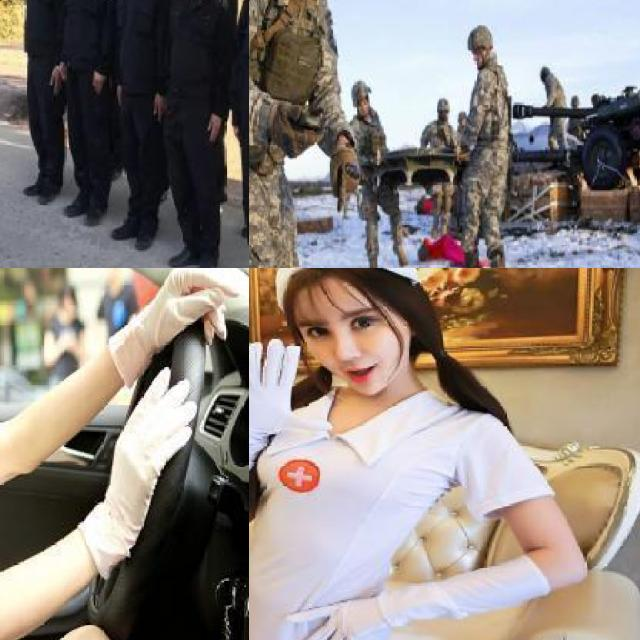face_nomask: (298, 285, 418, 405)
hand_glove: (110, 364, 198, 541), (129, 268, 243, 354), (249, 338, 330, 437), (287, 599, 389, 640), (273, 101, 325, 161), (330, 152, 359, 218)
hand_noglove: (204, 113, 222, 141), (152, 95, 166, 121), (90, 70, 104, 95), (49, 64, 61, 93), (114, 82, 125, 104), (372, 150, 382, 166), (232, 122, 240, 140), (58, 62, 66, 78), (455, 144, 462, 162)
head_helmet: (468, 22, 498, 54), (350, 78, 373, 105), (433, 101, 450, 119)
head_nohelmet: (256, 268, 430, 297)
person: (249, 268, 498, 640), (0, 268, 224, 640), (249, 0, 380, 268), (427, 19, 536, 268), (170, 0, 232, 268), (339, 73, 422, 268), (118, 0, 173, 253), (9, 0, 70, 200), (70, 0, 113, 230), (532, 56, 580, 154)
shoes: (34, 169, 68, 205), (60, 188, 98, 218), (82, 194, 113, 229), (133, 223, 161, 256), (165, 246, 204, 268), (194, 245, 220, 268)
